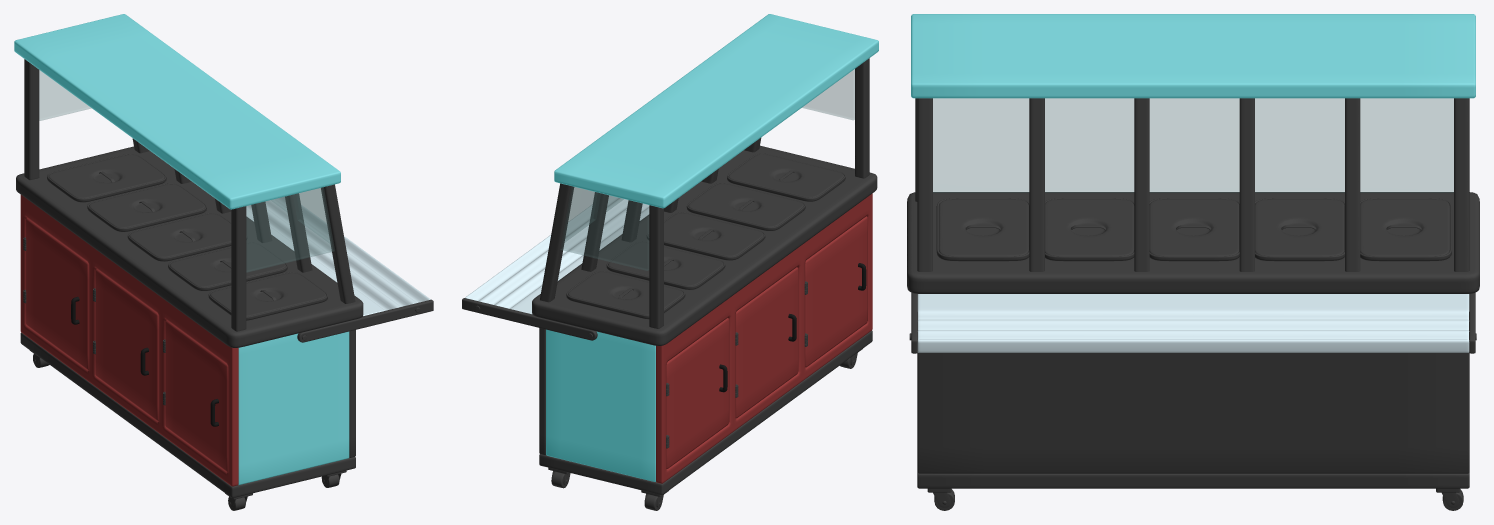
The model's file is Hot Food Bar.fbx.
3 renders of one model, left to right at view 1: azimuth 30°, elevation 25°; view 2: azimuth 150°, elevation 25°; view 3: azimuth 270°, elevation 25°, orthographic. The views are drawn at different scales.
Visible parts, largest first — view 1: ceiling, side_plate_2, table_top, back_plate, door_2, door_1, door_3, side_window_2, tray_table, roller_base, lid, lid_2 (+17 smaller); view 2: ceiling, side_plate_1, table_top, back_plate, door_1, door_2, door_3, side_window_1, tray_table, roller_base, lid_5, lid_4 (+17 smaller); view 3: front_plate, ceiling, front_window, tray_table, table_top, roller_base, lid_3, lid, lid_2, lid_5, lid_4, front_bar_4 (+9 smaller).
Part boxes in pixels (x1,y1,x2,y2): ceiling: (14,14,340,209); side_plate_2: (238,331,349,484); table_top: (16,146,363,347); back_plate: (20,195,238,486); door_2: (95,268,158,420); door_1: (25,218,88,369); door_3: (165,320,227,471); side_window_2: (246,187,334,272); tray_table: (246,197,430,315); roller_base: (20,332,355,497); lid: (48,154,164,198); lid_2: (89,184,205,227); ceiling: (554,14,878,208); side_plate_1: (546,329,655,481); table_top: (532,145,877,345); back_plate: (656,193,872,483); door_1: (666,318,729,468); door_2: (735,267,798,418); door_3: (805,216,867,367); side_window_1: (560,186,648,270); tray_table: (465,195,649,314); roller_base: (539,330,872,494); lid_5: (728,154,843,197); lid_4: (688,183,803,227); front_plate: (917,353,1469,473); ceiling: (911,14,1475,98); front_window: (933,98,1453,192); tray_table: (917,294,1469,352); table_top: (907,192,1479,293); roller_base: (917,472,1469,488); lid_3: (1149,199,1239,256); lid: (1360,199,1449,256); lid_2: (1255,199,1344,256); lid_5: (939,199,1028,256); lid_4: (1045,199,1134,256); front_bar_4: (1134,98,1149,271).
Bounding box in the file's own units: 6.57 × 9.87 × 12.11.
